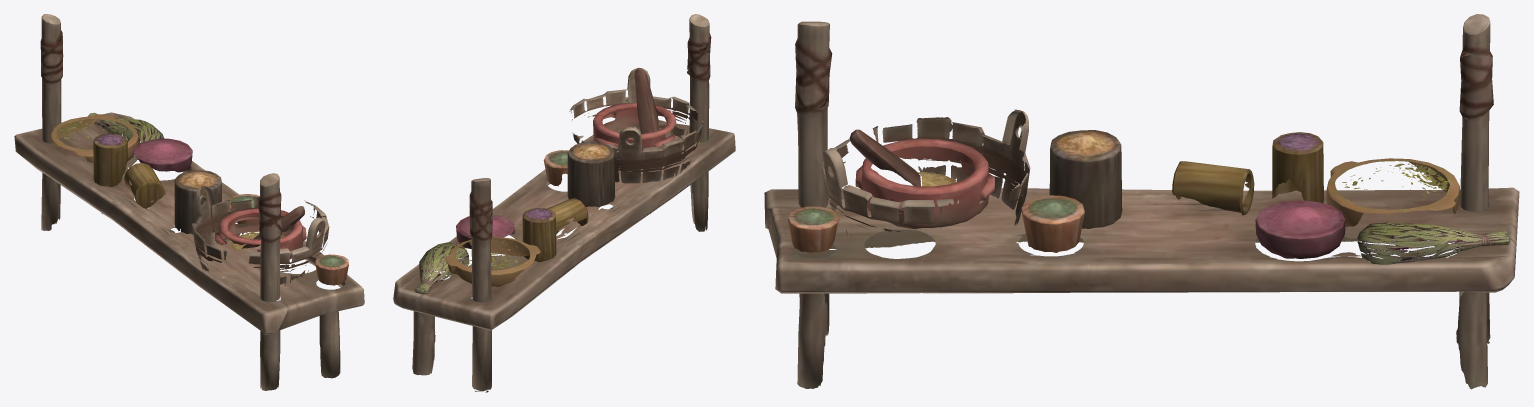
3 renders of one model, left to right at view 1: azimuth 30°, elevation 25°; view 2: azimuth 150°, elevation 25°; view 3: azimuth 270°, elevation 25°, orthographic. The views are drawn at different scales.
Parts seen in each view (by area): view 1: SM_Pan_Rack_01_LOD0; view 2: SM_Pan_Rack_01_LOD0; view 3: SM_Pan_Rack_01_LOD0.
Boxes of the visible parts, x1,y1,x2,y2 form: SM_Pan_Rack_01_LOD0: (14, 14, 364, 390); SM_Pan_Rack_01_LOD0: (393, 14, 735, 392); SM_Pan_Rack_01_LOD0: (764, 14, 1519, 389).
Size of the model in its own units: 0.6073 by 1.04 by 2.2.
Materials: 2 (2 with a texture image).
